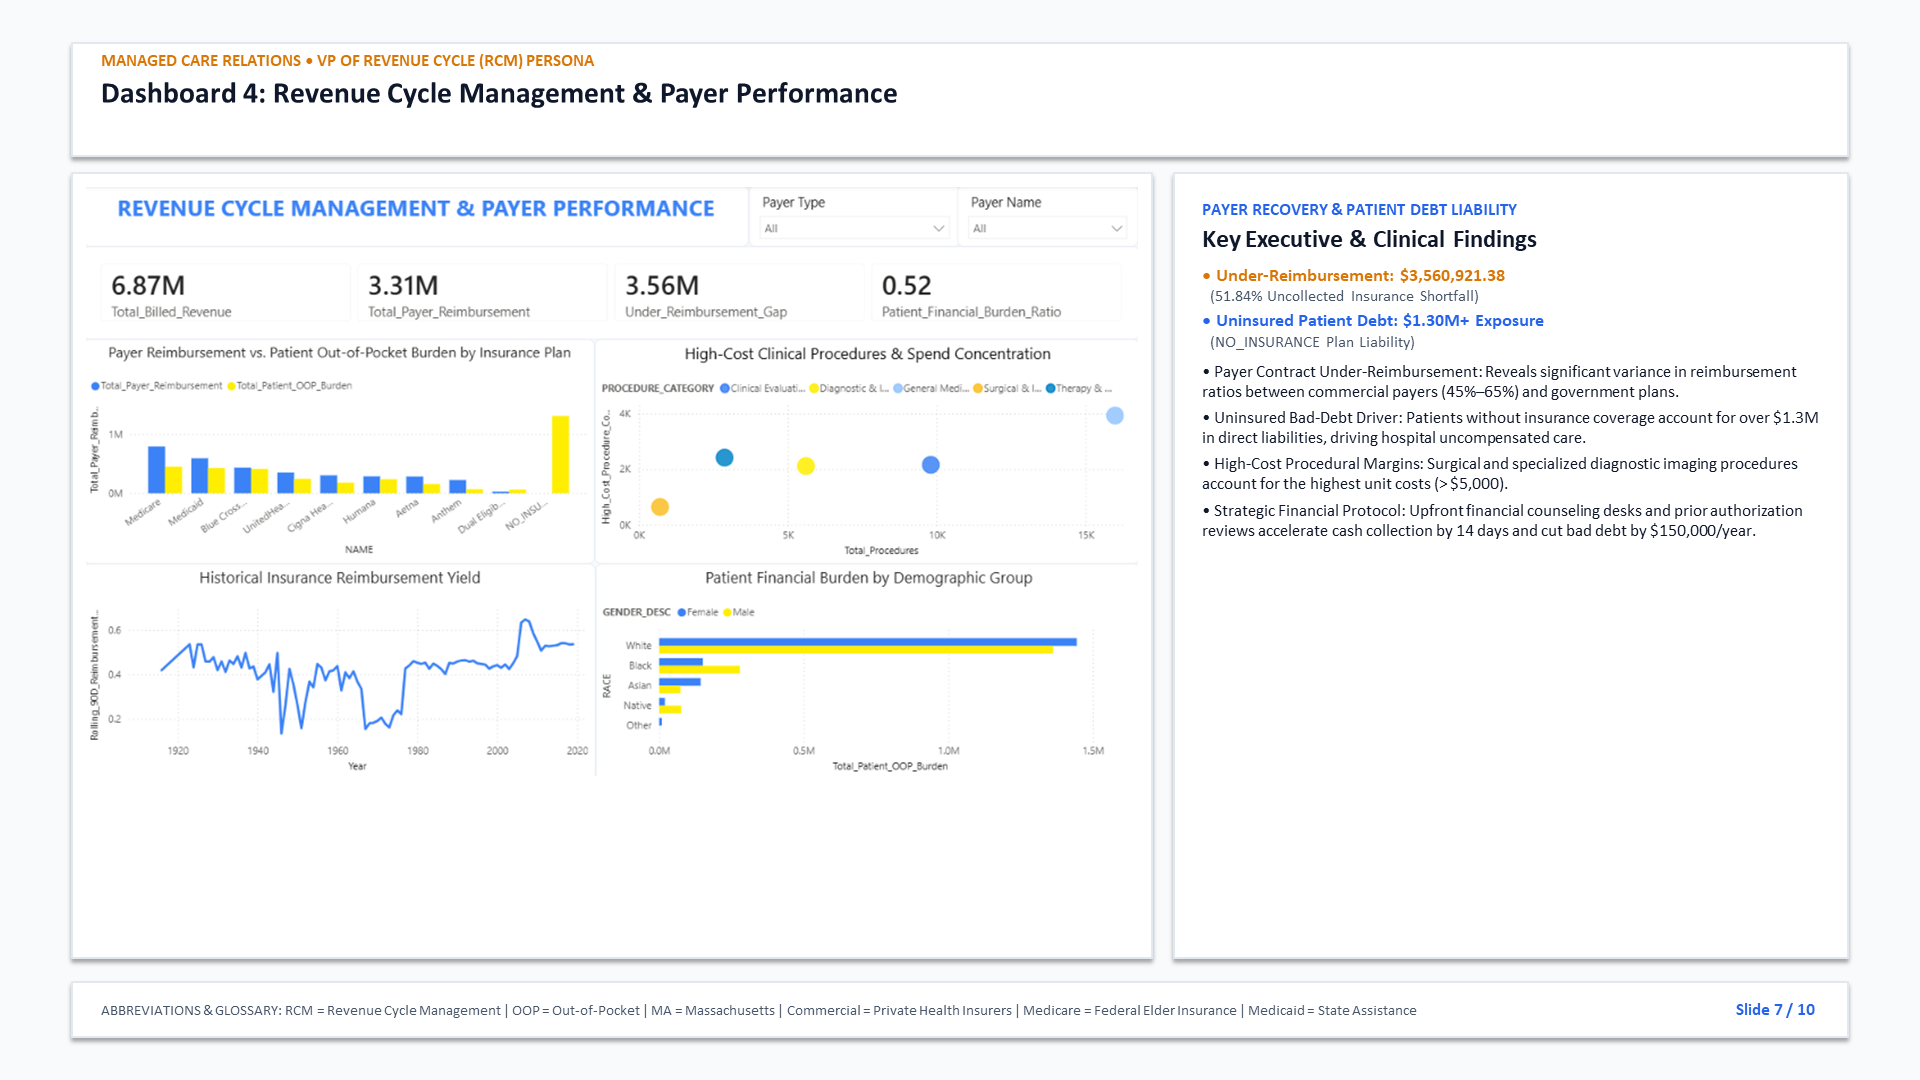

Layout of this report page (visuals, bound fields, positions):
{"tool":"powerbi","page":{"name":"Revenue Cycle & Payers (RCM)","canvas":[1280,720],"ordinal":3},"visuals":[{"type":"cardVisual","fields":{"Data":["_Measures.Total_Billed_Revenue","_Measures.Total_Payer_Reimbursement","_Measures.Under_Reimbursement_Gap","_Measures.Patient_Financial_Burden_Ratio"]},"box":[0,74.1,1278.9,112.5],"z":0},{"type":"clusteredColumnChart","title":"Payer Reimbursement vs. Patient Out-of-Pocket Burden by Insurance Plan","fields":{"Category":["Dim_Payers.NAME"],"Y":["_Measures.Total_Payer_Reimbursement","_Measures.Total_Patient_OOP_Burden"]},"box":[0,186.6,618.9,271.7],"z":1000},{"type":"scatterChart","title":"High-Cost Clinical Procedures & Spend Concentration","fields":{"Category":["Fact_Procedures.PROCEDURE_CATEGORY"],"Series":["Fact_Procedures.PROCEDURE_CATEGORY"],"Size":["_Measures.Average_Procedure_Cost"],"X":["_Measures.Total_Procedures"],"Y":["_Measures.High_Cost_Procedure_Count"]},"box":[618.9,186.6,660,272],"z":2000},{"type":"clusteredBarChart","title":"Patient Financial Burden by Demographic Group","fields":{"Category":["Dim_Patients.RACE"],"Series":["Dim_Patients.GENDER_DESC"],"Y":["_Measures.Total_Patient_OOP_Burden"]},"box":[620,458,660,262],"z":3000},{"type":"lineChart","title":"Historical Insurance Reimbursement Yield","fields":{"Category":["Dim_Date.Year"],"Y":["_Measures.Rolling_90D_Reimbursement_Rate"]},"box":[0,458,620,262],"z":4000},{"type":"slicer","fields":{"Values":["Dim_Payers.PAYER_TYPE"]},"box":[805.5,0,256.6,74.1],"z":5000},{"type":"slicer","fields":{"Values":["Dim_Payers.NAME"]},"box":[1058,0,219.6,74.1],"z":6000},{"type":"textbox","box":[0,0,805.5,74.1],"z":7000}]}

Visuals, with their boxes in screenshot pixels (x1, y1, x2, y2), scaled from the page's 1280x720 canvas onto the 1920x1080 screenshot:
cardVisual - _Measures.Total_Billed_Revenue x _Measures.Total_Payer_Reimbursement: crop(0, 111, 1918, 280)
"Payer Reimbursement vs. Patient Out-of-Pocket Burden by Insurance Plan" clusteredColumnChart: crop(0, 280, 928, 687)
"High-Cost Clinical Procedures & Spend Concentration" scatterChart: crop(928, 280, 1918, 688)
"Patient Financial Burden by Demographic Group" clusteredBarChart: crop(930, 687, 1919, 1079)
"Historical Insurance Reimbursement Yield" lineChart: crop(0, 687, 930, 1079)
slicer - Dim_Payers.PAYER_TYPE: crop(1208, 0, 1593, 111)
slicer - Dim_Payers.NAME: crop(1587, 0, 1916, 111)
textbox: crop(0, 0, 1208, 111)
